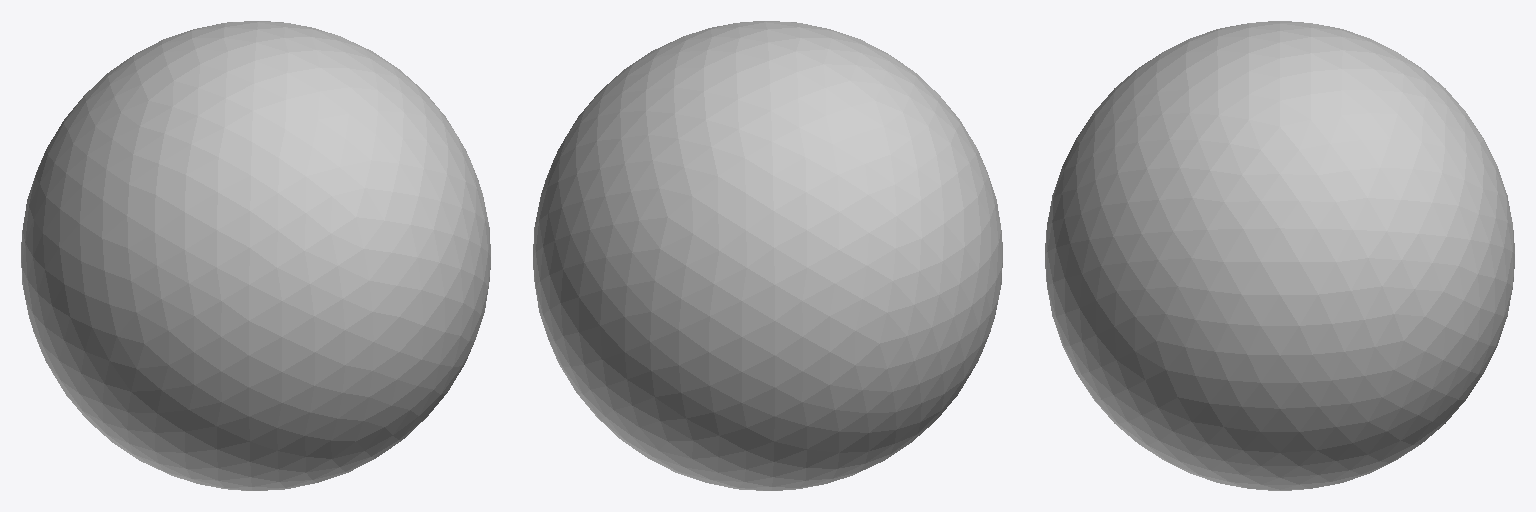
The model's file is Eel.obj.
The picture shows the model from 3 angles: view 1: azimuth 30°, elevation 25°; view 2: azimuth 150°, elevation 25°; view 3: azimuth 270°, elevation 25°; orthographic projection.
Visible parts, largest first — view 1: Eel; view 2: Eel; view 3: Eel.
Boxes of the visible parts, x1=… form: Eel: x1=21, y1=21, x2=490, y2=490; Eel: x1=533, y1=21, x2=1002, y2=490; Eel: x1=1045, y1=21, x2=1514, y2=490.
Bounding box in the file's own units: 12 × 12 × 12.